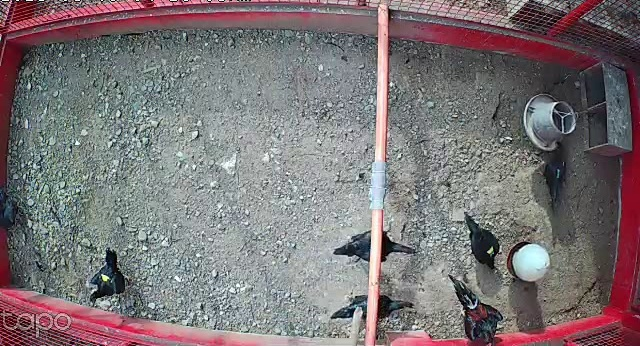Chicken: (329, 223, 422, 267), (83, 245, 137, 309), (327, 290, 418, 323), (461, 207, 502, 274), (536, 140, 569, 212)
Rooster: (440, 265, 506, 346)
Saddle_Color_Yellow: (97, 271, 116, 285)
Saddle_Color_YellowGreen: (487, 247, 495, 256)
